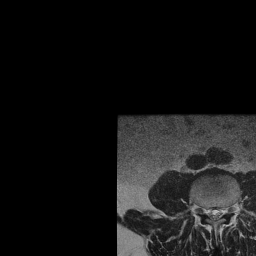CCS_normal: (212, 201, 218, 225)
LFS_normal: (224, 199, 230, 218)
LLS_normal: (218, 200, 224, 222)
RFS_normal: (200, 200, 206, 220)
RLS_normal: (206, 201, 212, 223)
